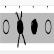correct: (29, 15, 39, 37)
not correct: (15, 8, 26, 47)
